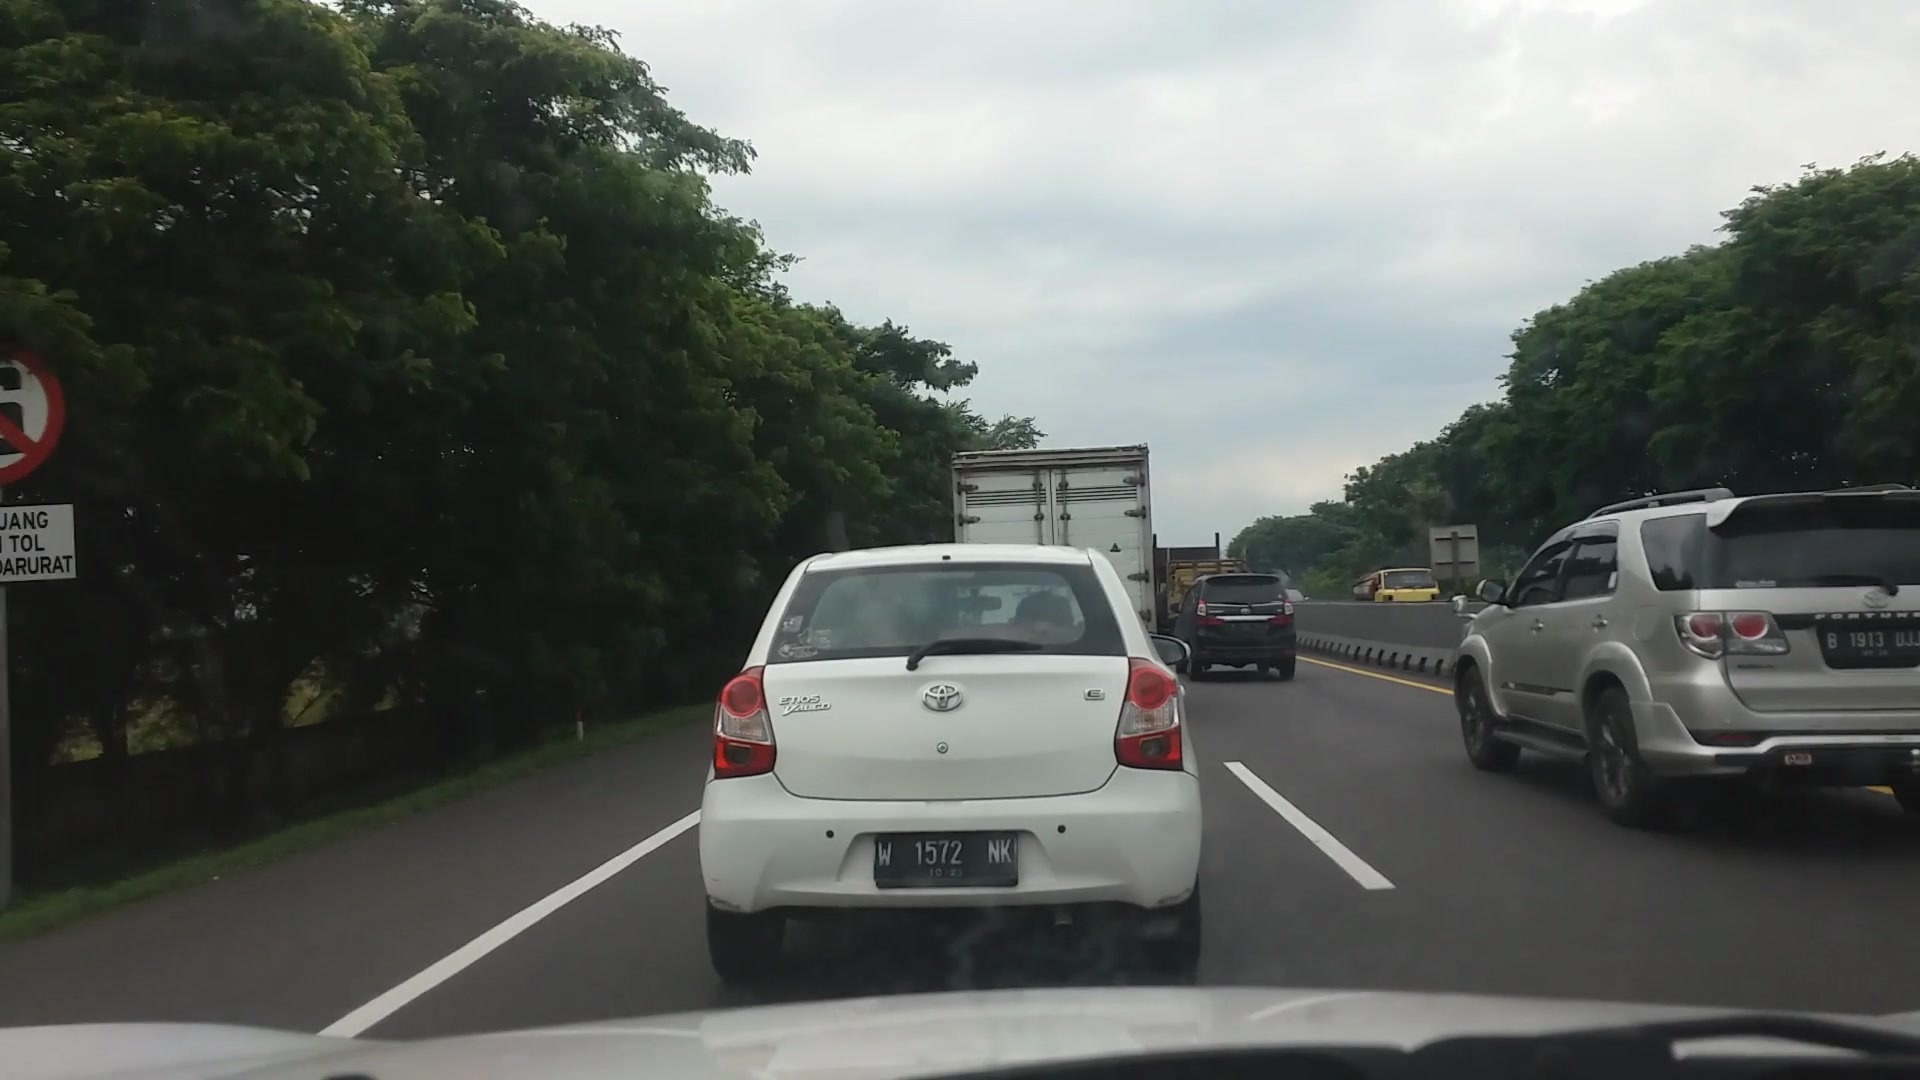plate_positive: (874, 829, 1019, 889)
